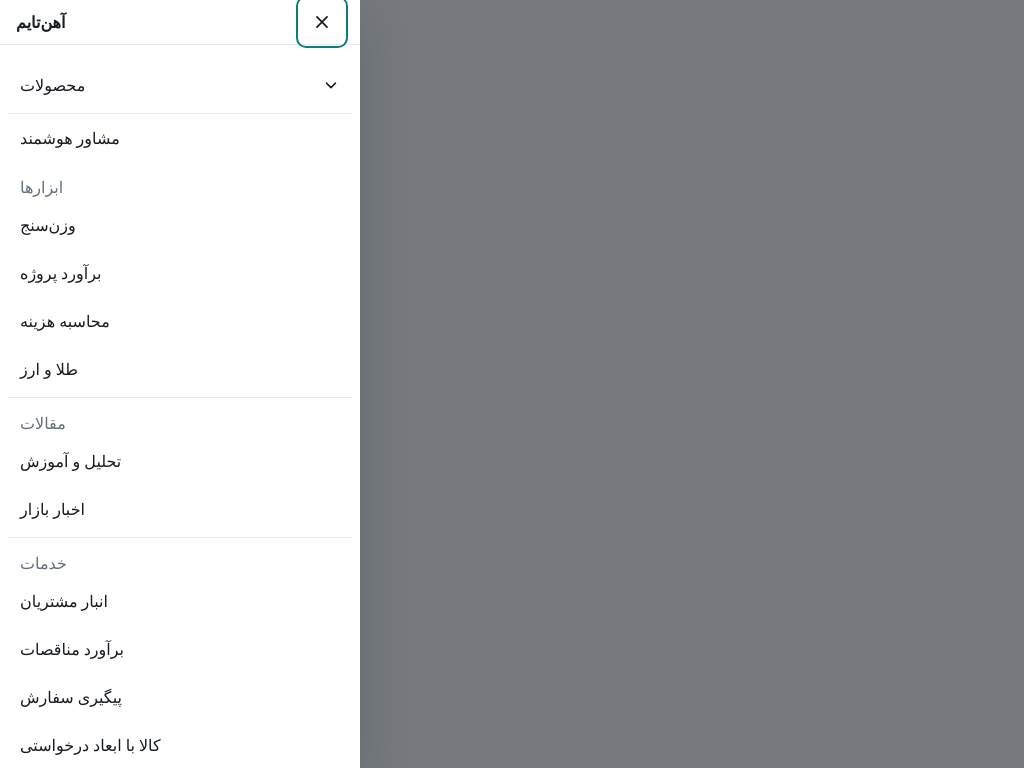
Test: MobileDrawer · products › reveals a category’s sub-categories in place instead of only navigating away
What coordinates should you click on to do the following:
click the button "محصولات"
I would click on:
 (53, 85)
Its box is [8, 61, 352, 109].
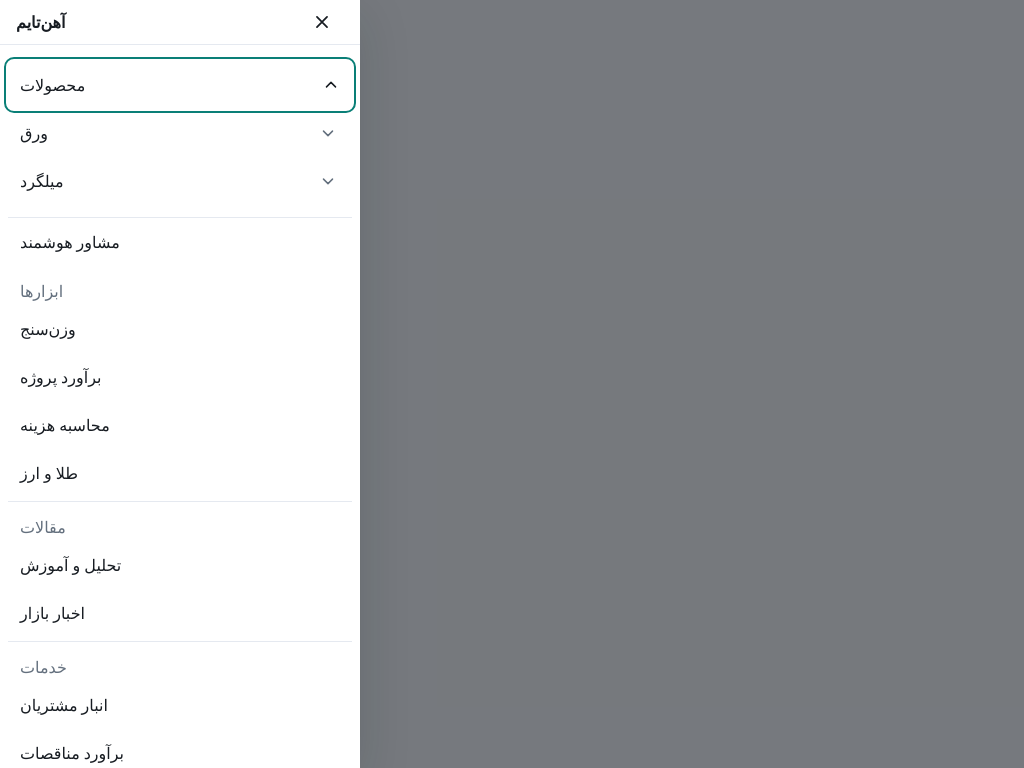
Expected: the link "گالوانیزه" is not shown
What coordinates should you click on to do the following:
click the button named "زیردسته‌های ورق"
I would click on:
 (328, 133)
Its box is [304, 109, 352, 157].
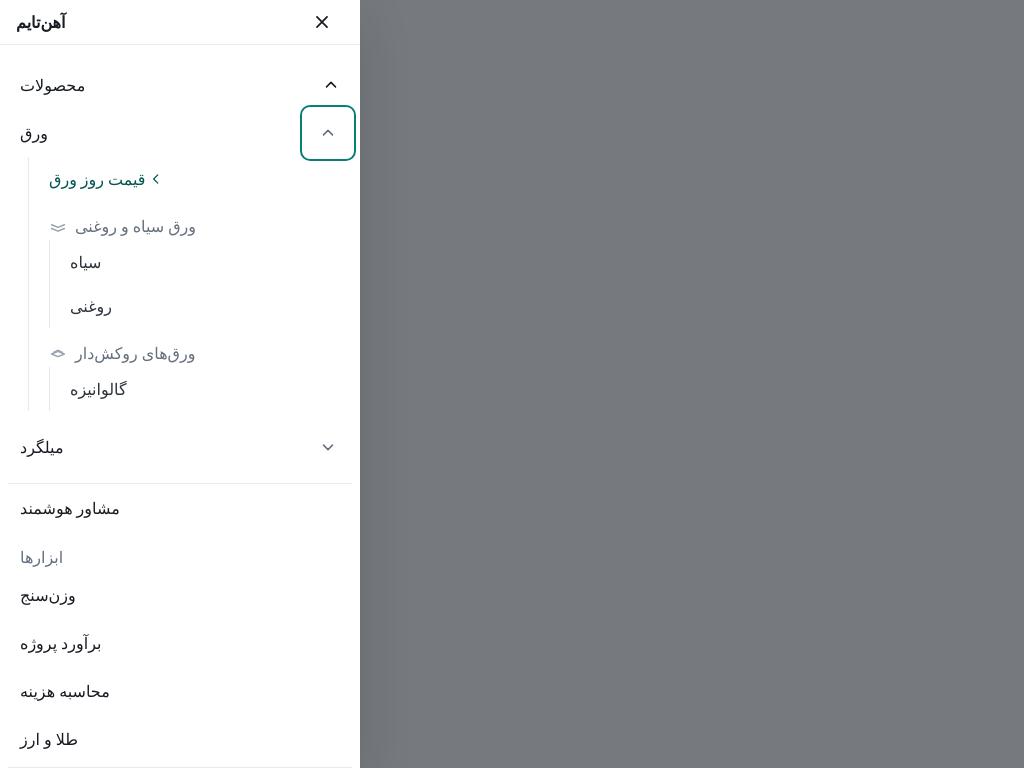
Result: the button named "زیردسته‌های ورق" is expanded at [304, 109, 352, 157]
